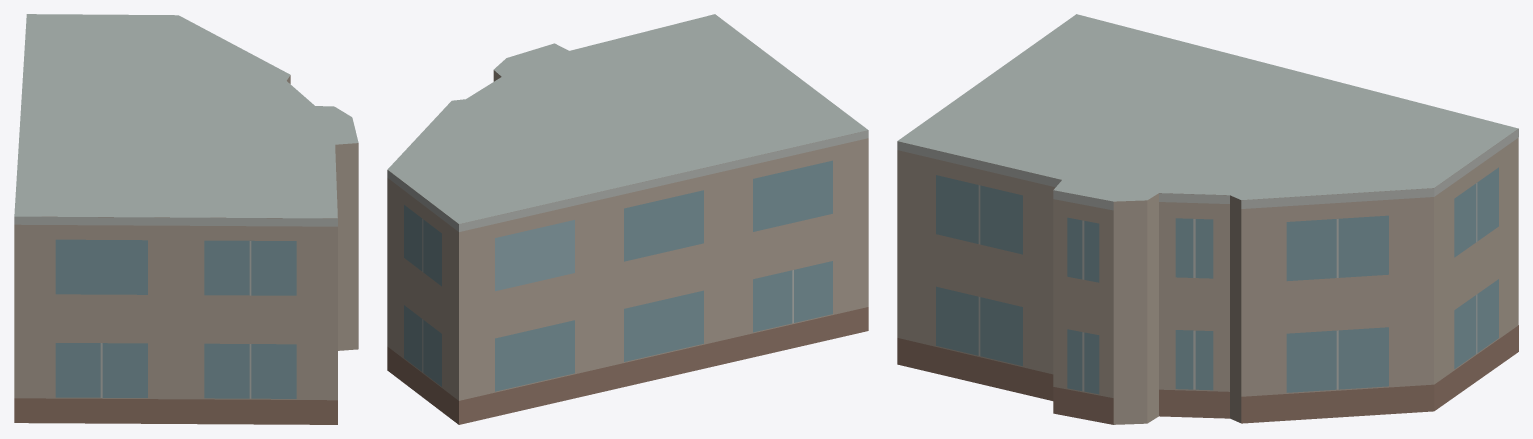
The model's file is survey-upis-32683088.glb.
3 views of the same model, side by side, from view 1: azimuth 30°, elevation 25°; view 2: azimuth 150°, elevation 25°; view 3: azimuth 270°, elevation 25° (orthographic). The views are drawn at different scales.
Parts seen in each view (by area): view 1: survey-upis-32683088.tmp; view 2: survey-upis-32683088.tmp; view 3: survey-upis-32683088.tmp.
Boxes of the visible parts, x1,y1,x2,y2 form: survey-upis-32683088.tmp: (14,14,358,424); survey-upis-32683088.tmp: (387,14,868,424); survey-upis-32683088.tmp: (897,14,1518,424).
Bounding box in the file's own units: 11 × 6.1 × 15.4.
